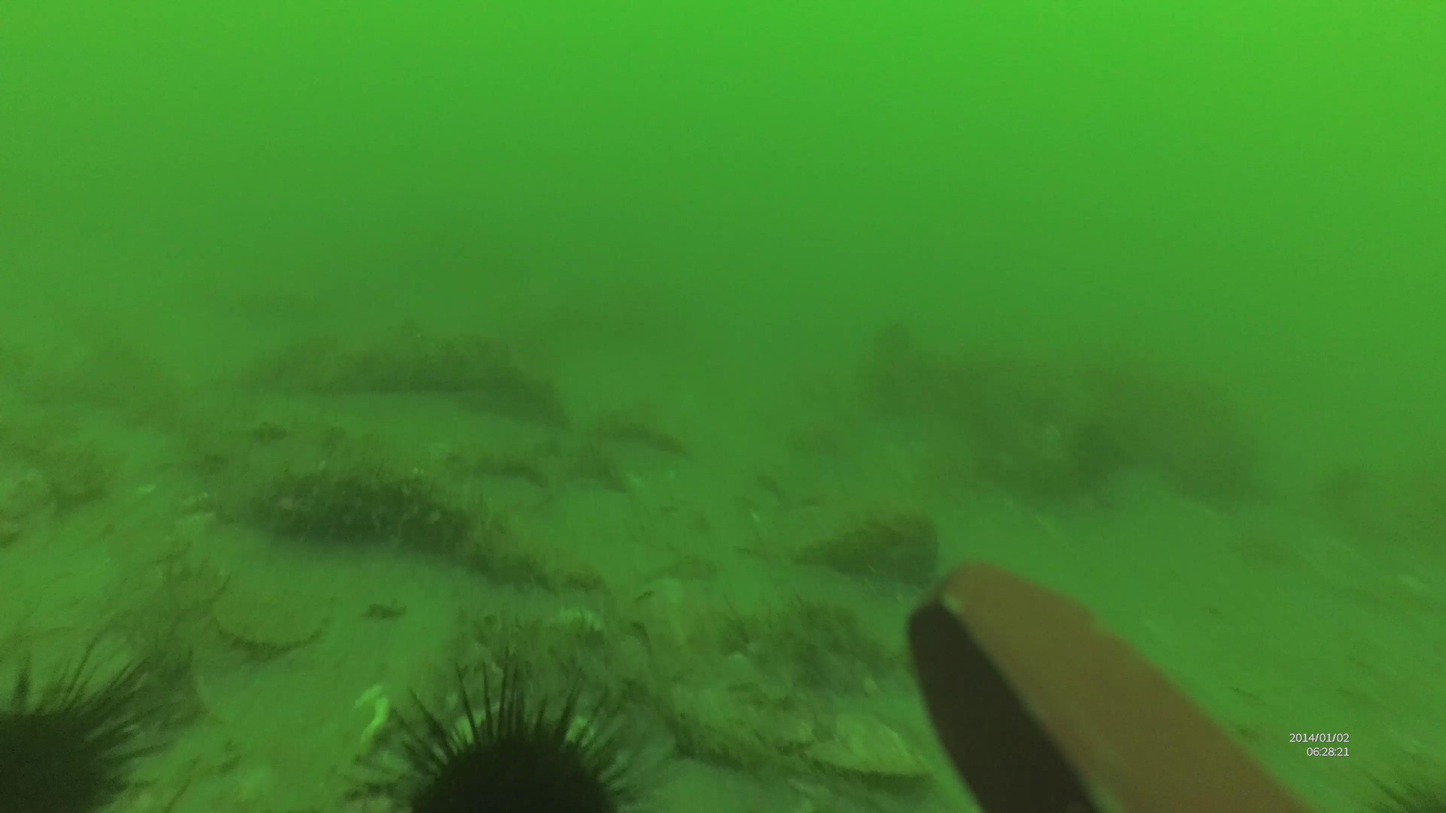starfish: (378, 659, 648, 813), (2, 633, 173, 813)
